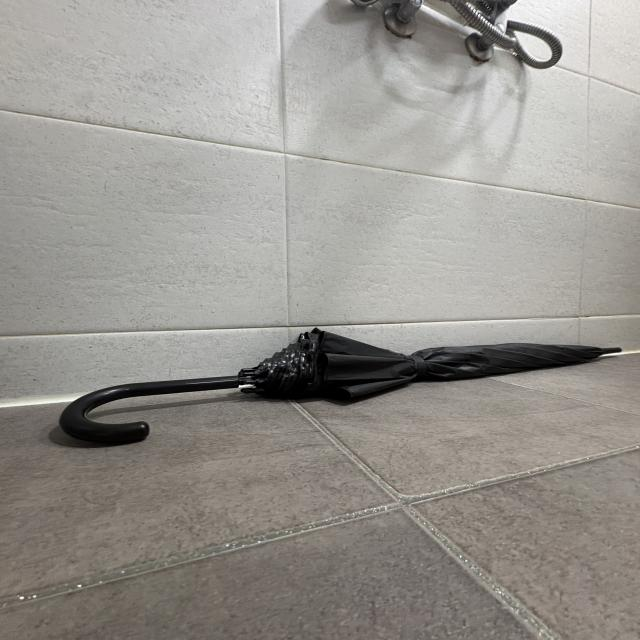umbrella: (61, 327, 626, 447)
